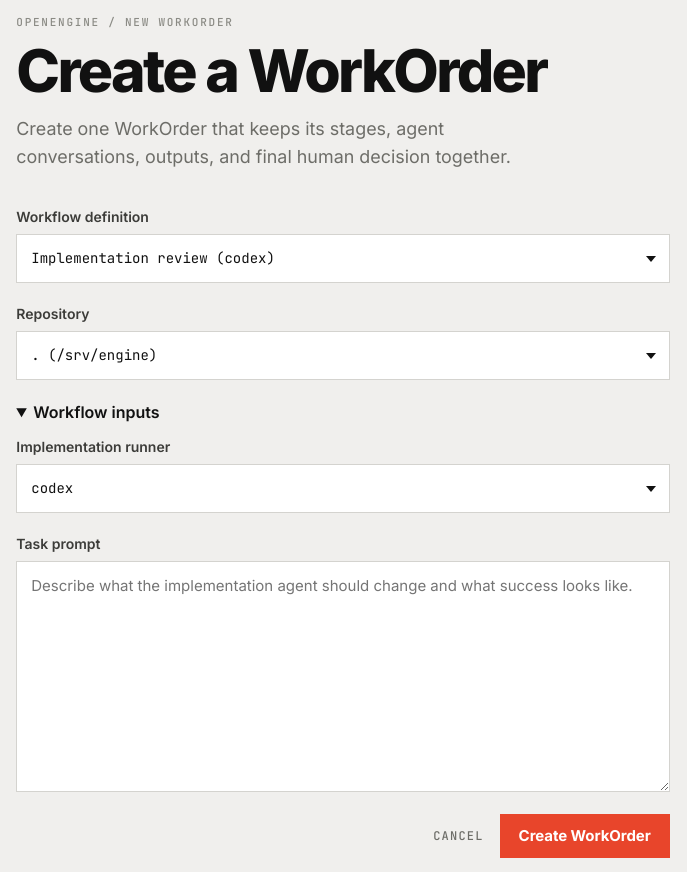
it: NewWorkflowPage › still opens the created WorkOrder when the runner selection cannot be saved
Step 1. Type "Ship it" into the text box labelled "Task prompt" → (343,677), box [16,561,670,792]
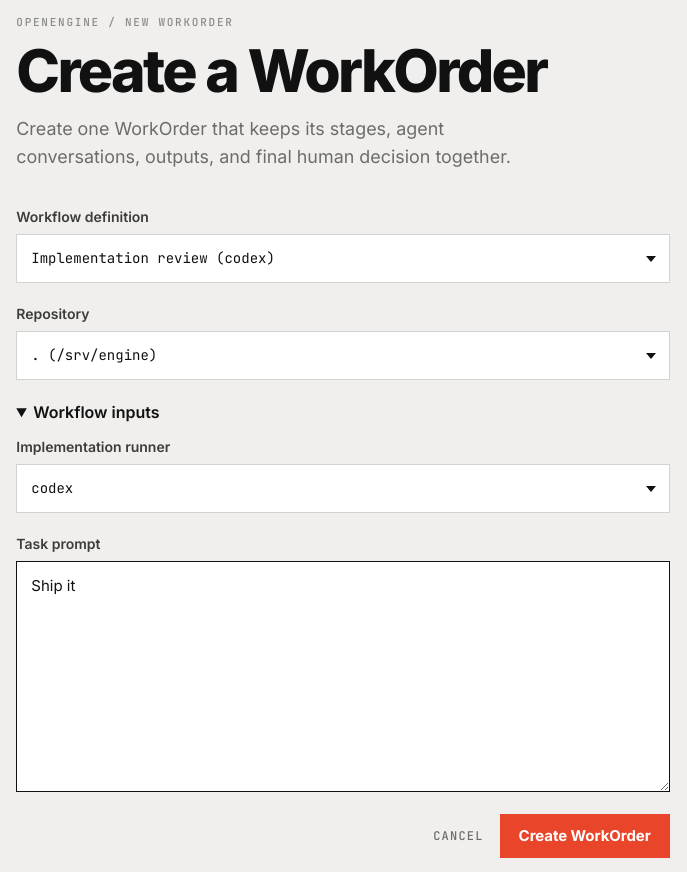
Step 2. Click the button "Create WorkOrder" → (585,836), box [500,814,670,858]
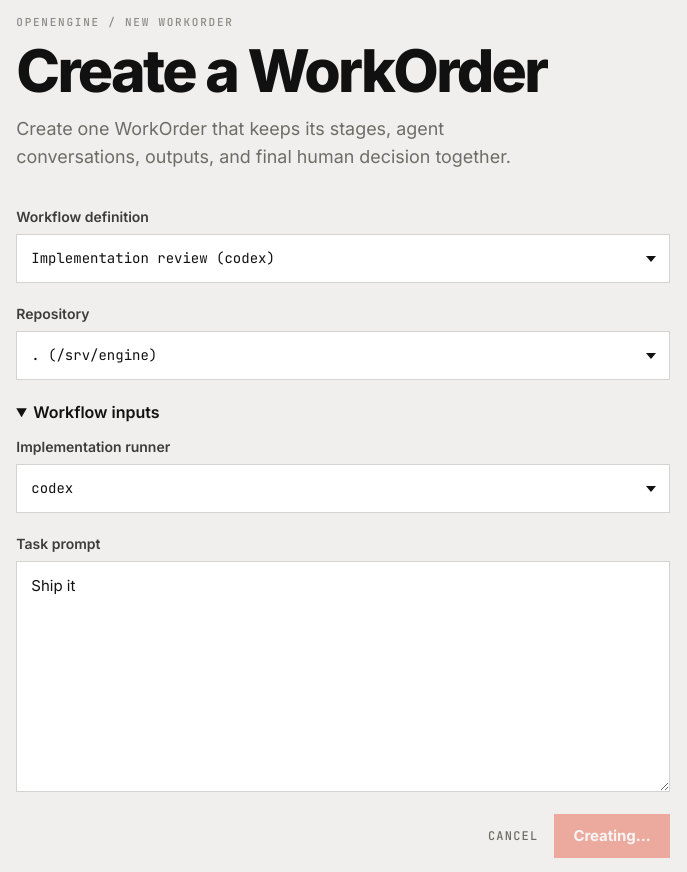
expect the button "Creating…" is disabled: met, box [554,814,670,858]
